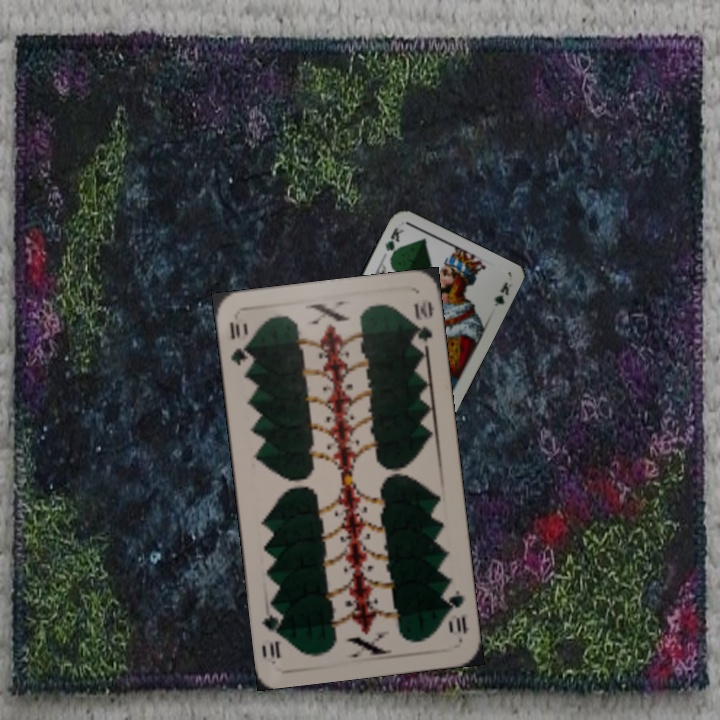G10: (441, 586, 471, 637), (226, 318, 253, 368)
GK: (380, 224, 407, 262)
